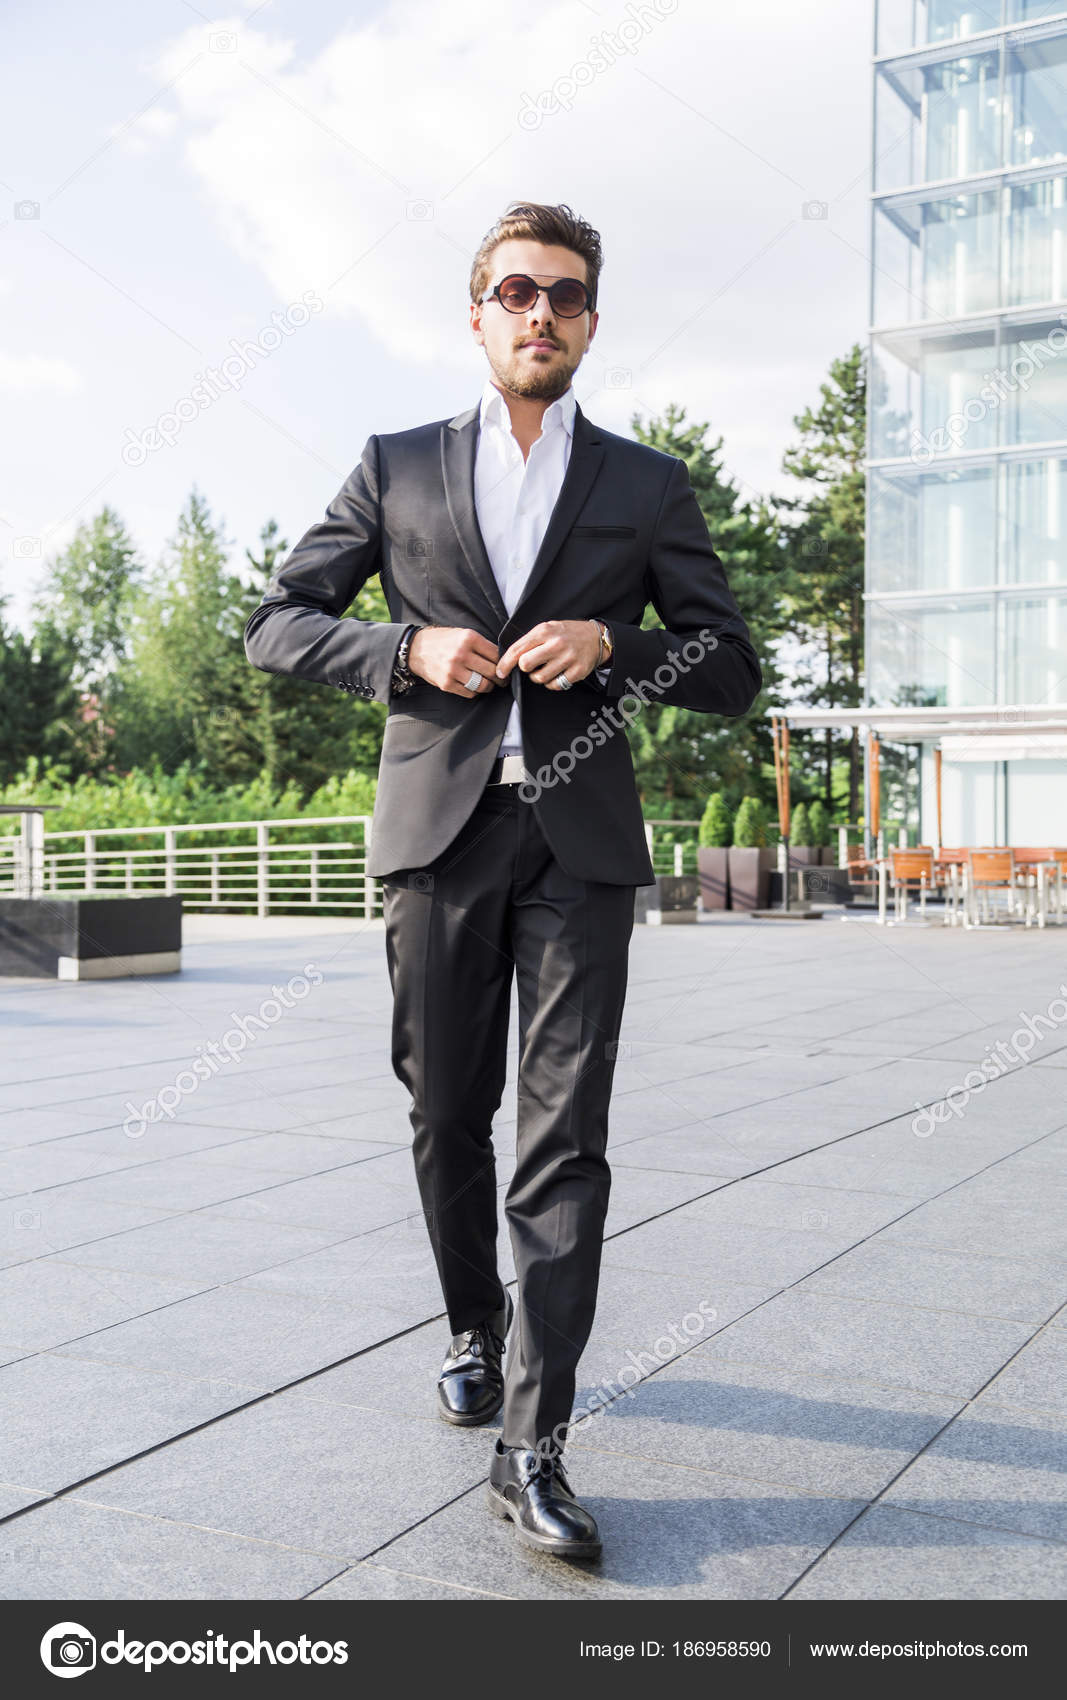feet: (390, 1230, 640, 1577)
